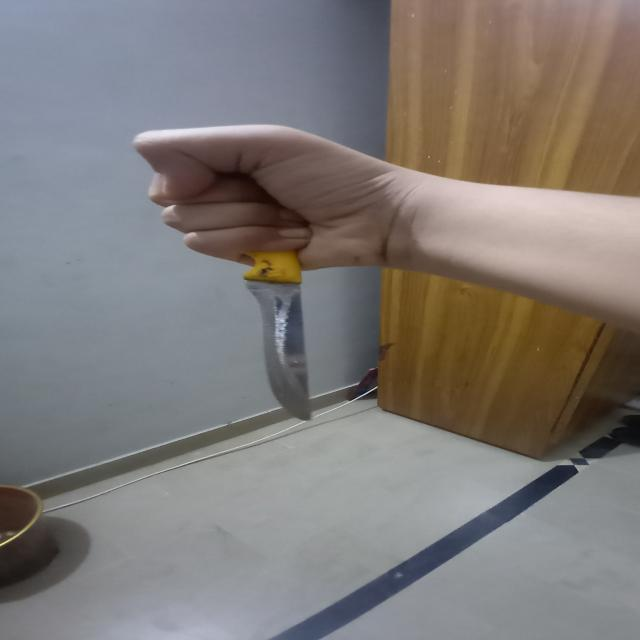Knife: (220, 206, 368, 424)
